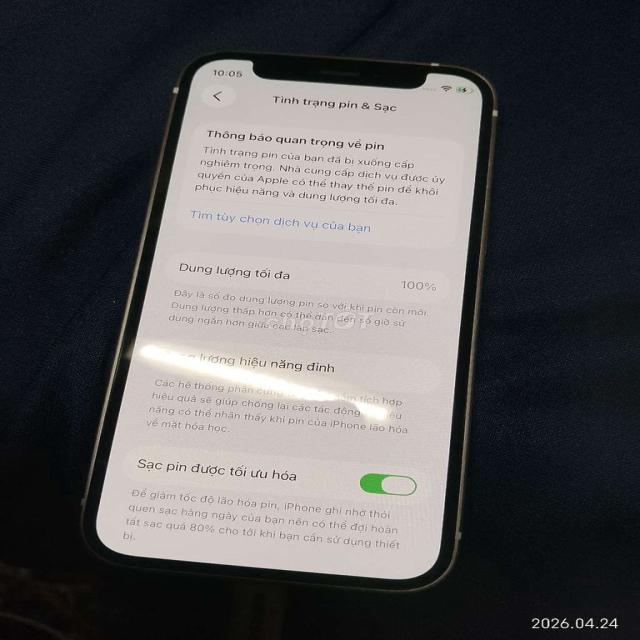gen_12_13: (73, 46, 503, 600)
